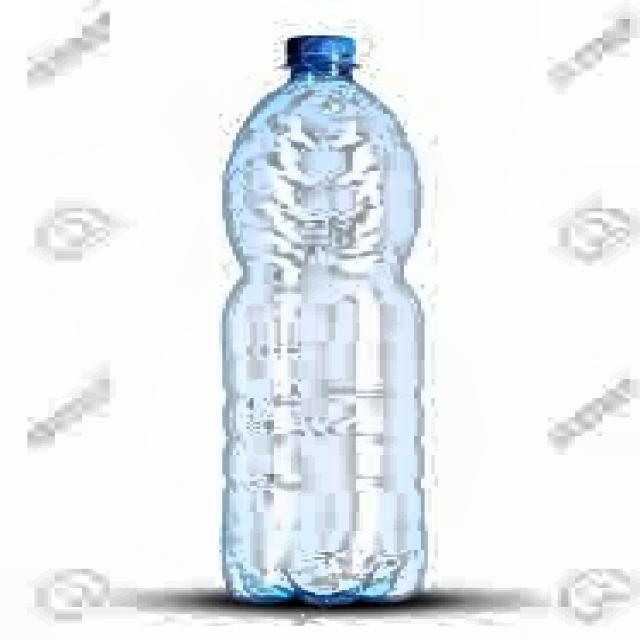plastic bottle: (222, 38, 422, 604)
